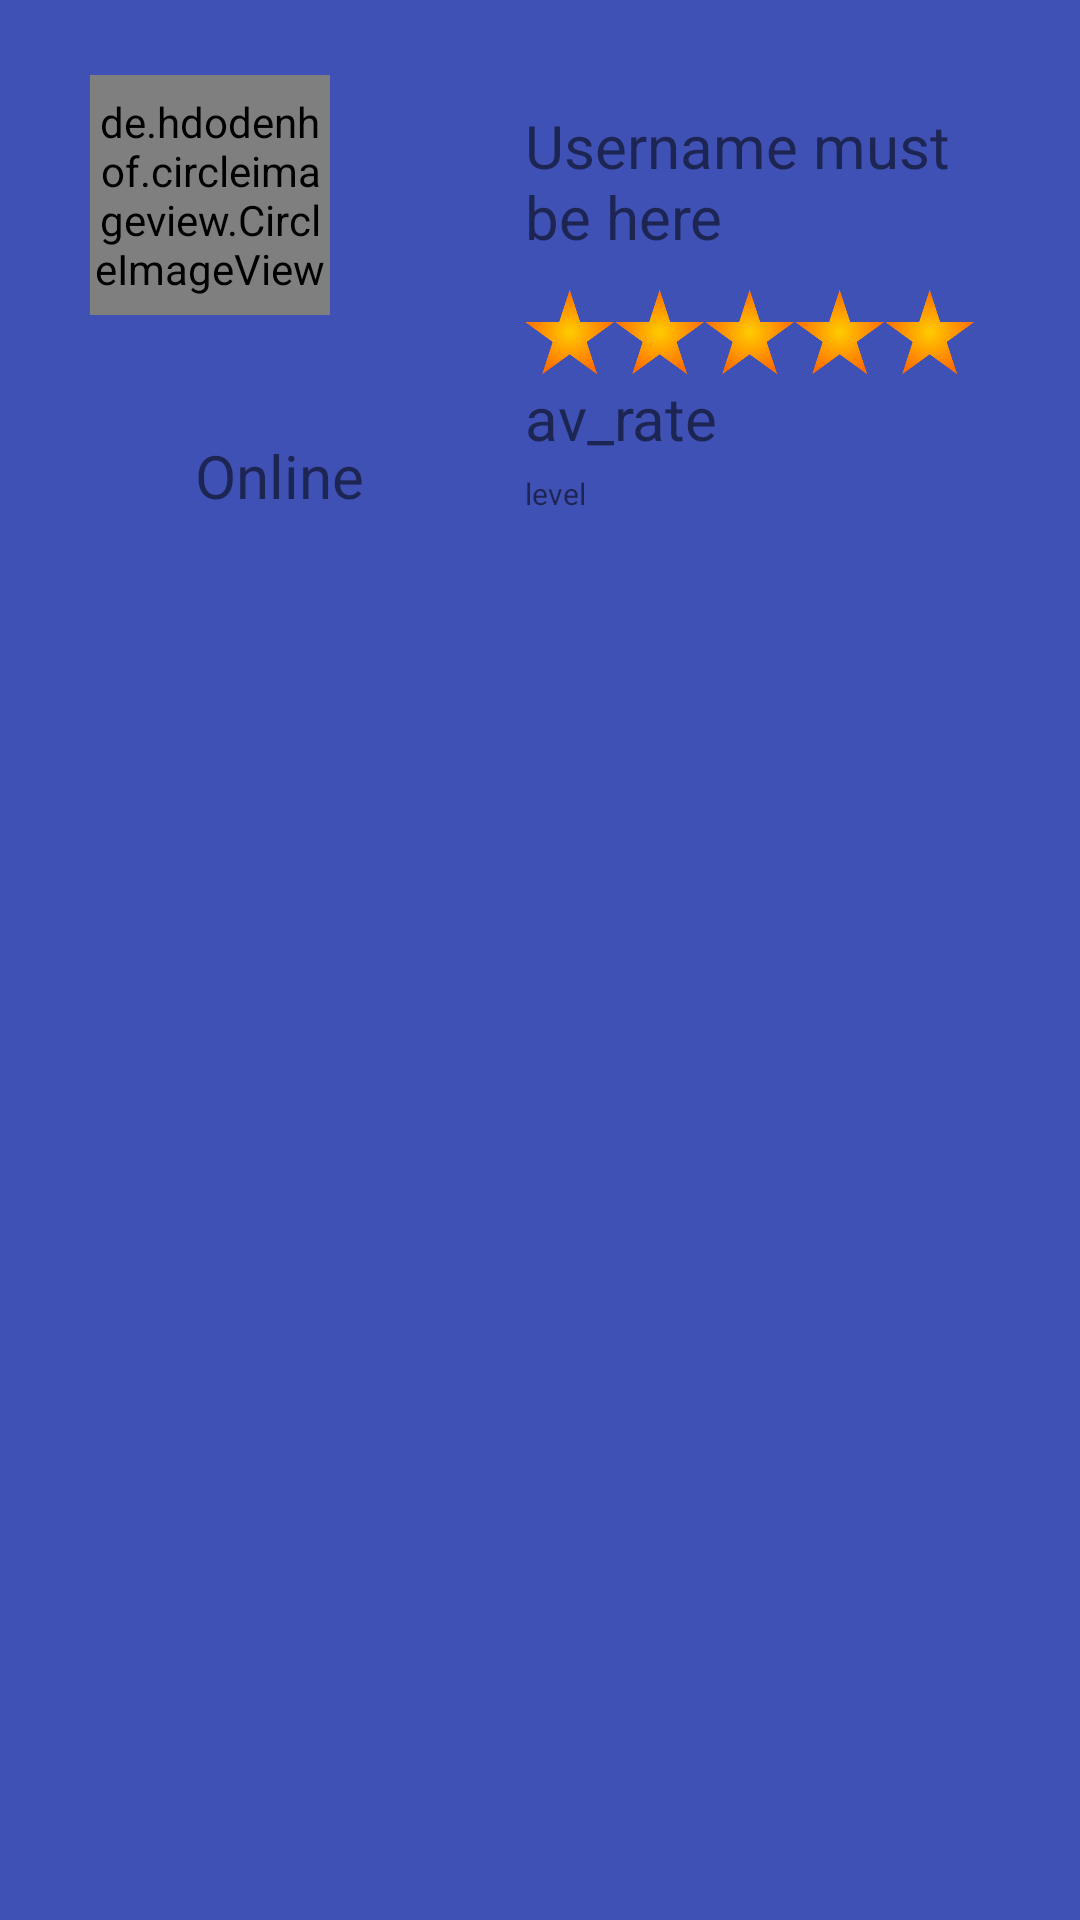

Where icons sit on this 1080 × 1920 app screen, as {"left": x1, "top": y1, "right": x2, "bottom": y2}:
star: {"left": 526, "top": 290, "right": 614, "bottom": 374}, {"left": 616, "top": 290, "right": 704, "bottom": 374}, {"left": 706, "top": 290, "right": 794, "bottom": 374}, {"left": 796, "top": 290, "right": 884, "bottom": 374}, {"left": 886, "top": 290, "right": 974, "bottom": 374}
